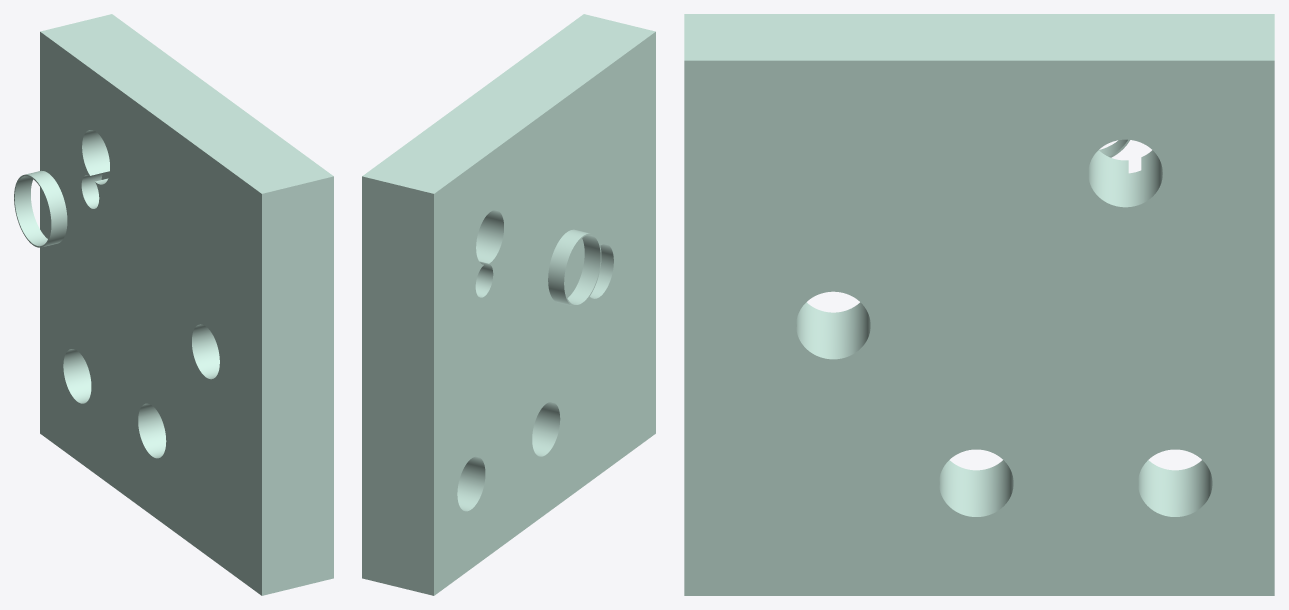
3 views of the same model, side by side, from view 1: azimuth 30°, elevation 25°; view 2: azimuth 150°, elevation 25°; view 3: azimuth 270°, elevation 25° (orthographic). The views are drawn at different scales.
Parts seen in each view (by area): view 1: Renderer Node; view 2: Renderer Node; view 3: Renderer Node.
Boxes of the visible parts, <box> form: Renderer Node: <box>14,14,333,595</box>; Renderer Node: <box>362,14,655,595</box>; Renderer Node: <box>684,14,1274,595</box>.
Size of the model in its own units: 0.5859 by 1.5 by 1.5.
